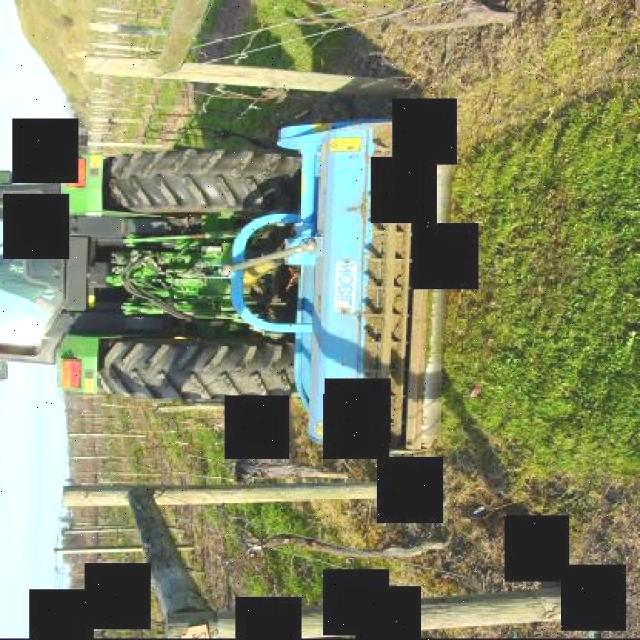Tratores - v5 YOLO V8L 2024-11-13: (0, 102, 568, 500)
